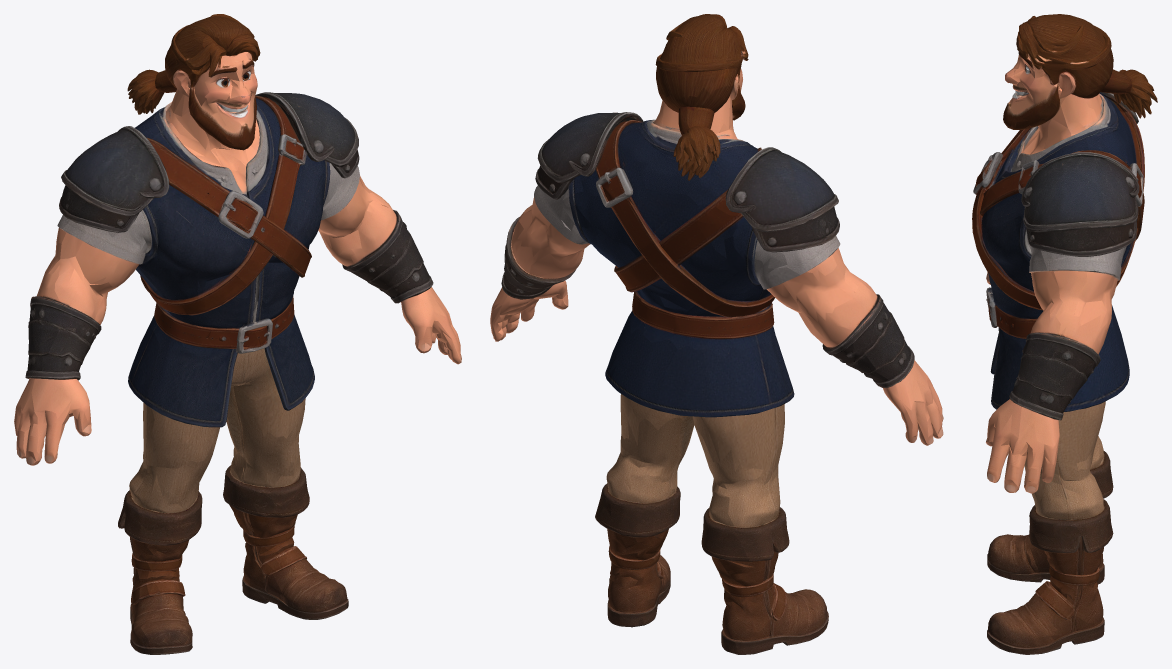
The model's file is muscleman_medieval.fbx.
The picture shows the model from 3 angles, left to right: view 1: azimuth 30°, elevation 25°; view 2: azimuth 150°, elevation 25°; view 3: azimuth 270°, elevation 25°; orthographic projection. The views are drawn at different scales.
Parts seen in each view (by area): view 1: muscleman_medieval; view 2: muscleman_medieval; view 3: muscleman_medieval.
Part boxes in pixels (<box>): muscleman_medieval: <box>14,14,461,654</box>; muscleman_medieval: <box>490,14,943,654</box>; muscleman_medieval: <box>972,14,1157,654</box>.
Size of the model in its own units: 1.53 by 2 by 0.5732.
Materials: 1 (1 with a texture image).
